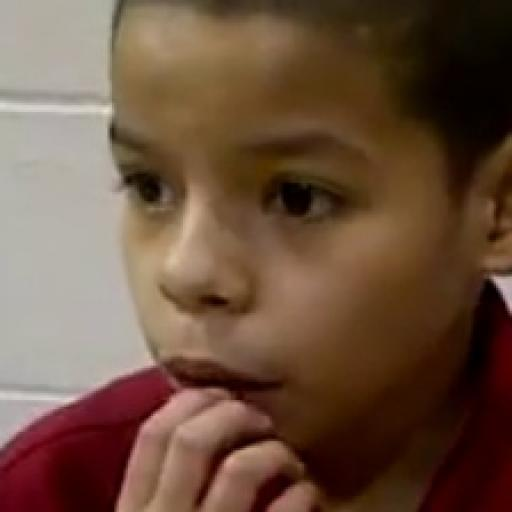Autism: (106, 28, 512, 512)
